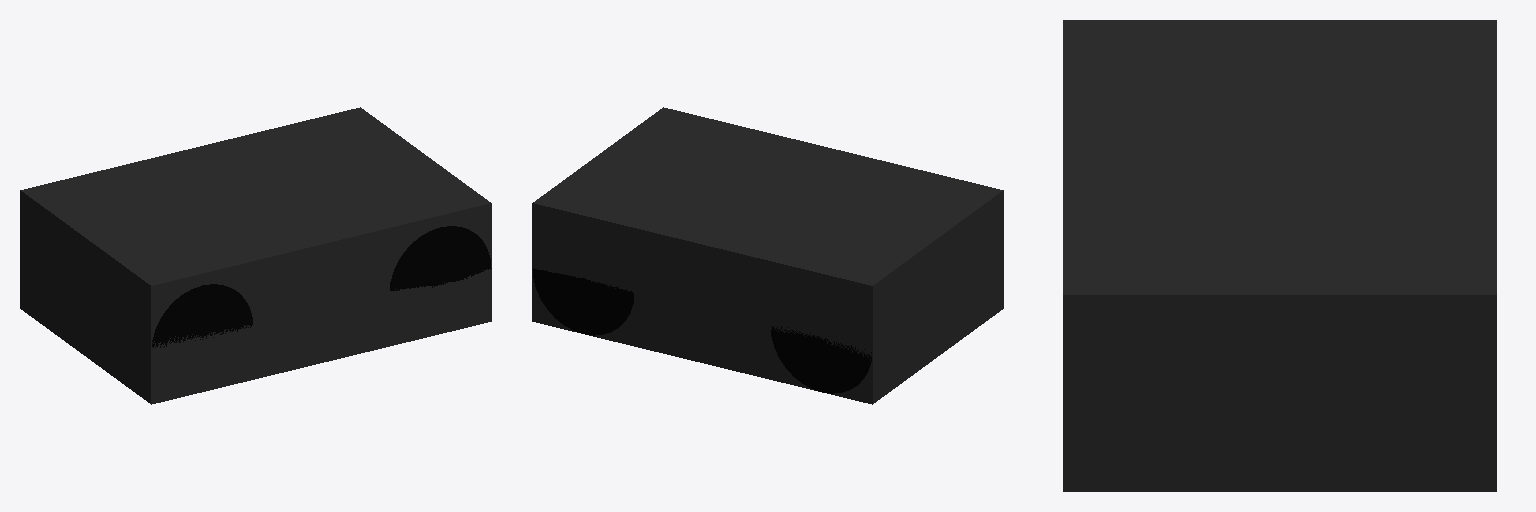
URDF robot description (rover):
<?xml version="1.0" ?>
<!-- =================================================================================== -->
<!-- |    This document was autogenerated by xacro from urdf/xacro/rover.urdf.xacro    | -->
<!-- |    EDITING THIS FILE BY HAND IS NOT RECOMMENDED                                 | -->
<!-- =================================================================================== -->
<robot name="rover">
  <!-- épaisseur roue -->
  <!-- châssis -->
  <link name="base_link">
    <visual>
      <origin xyz="0 0 0.1"/>
      <geometry>
        <box size="0.6 0.4 0.2"/>
      </geometry>
      <material name="gray">
        <color rgba="0.2 0.2 0.2 1"/>
      </material>
    </visual>
    <collision>
      <origin xyz="0 0 0.1"/>
      <geometry>
        <box size="0.6 0.4 0.2"/>
      </geometry>
    </collision>
    <inertial>
      <mass value="8.0"/>
      <origin xyz="0 0 0.1"/>
      <inertia ixx="0.2" ixy="0" ixz="0" iyy="0.2" iyz="0" izz="0.2"/>
    </inertial>
  </link>
  <link name="wheel_fl">
    <visual>
      <origin rpy="1.5708 0 0" xyz="0 0 0"/>
      <geometry>
        <cylinder length="0.05" radius="0.09"/>
      </geometry>
      <material name="black">
        <color rgba="0.05 0.05 0.05 1"/>
      </material>
    </visual>
    <collision>
      <origin rpy="1.5708 0 0" xyz="0 0 0"/>
      <geometry>
        <cylinder length="0.05" radius="0.09"/>
      </geometry>
    </collision>
    <inertial>
      <mass value="0.3"/>
      <inertia ixx="0.001" ixy="0" ixz="0" iyy="0.001" iyz="0" izz="0.001"/>
    </inertial>
  </link>
  <joint name="wheel_fl_joint" type="revolute">
    <parent link="base_link"/>
    <child link="wheel_fl"/>
    <origin xyz="0.21 0.17500000000000002 0.09"/>
    <axis xyz="0 1 0"/>
    <limit effort="10" lower="-3.14" upper="3.14" velocity="20"/>
  </joint>
  <link name="wheel_fr">
    <visual>
      <origin rpy="1.5708 0 0" xyz="0 0 0"/>
      <geometry>
        <cylinder length="0.05" radius="0.09"/>
      </geometry>
      <material name="black">
        <color rgba="0.05 0.05 0.05 1"/>
      </material>
    </visual>
    <collision>
      <origin rpy="1.5708 0 0" xyz="0 0 0"/>
      <geometry>
        <cylinder length="0.05" radius="0.09"/>
      </geometry>
    </collision>
    <inertial>
      <mass value="0.3"/>
      <inertia ixx="0.001" ixy="0" ixz="0" iyy="0.001" iyz="0" izz="0.001"/>
    </inertial>
  </link>
  <joint name="wheel_fr_joint" type="revolute">
    <parent link="base_link"/>
    <child link="wheel_fr"/>
    <origin xyz="0.21 -0.17500000000000002 0.09"/>
    <axis xyz="0 1 0"/>
    <limit effort="10" lower="-3.14" upper="3.14" velocity="20"/>
  </joint>
  <link name="wheel_rl">
    <visual>
      <origin rpy="1.5708 0 0" xyz="0 0 0"/>
      <geometry>
        <cylinder length="0.05" radius="0.09"/>
      </geometry>
      <material name="black">
        <color rgba="0.05 0.05 0.05 1"/>
      </material>
    </visual>
    <collision>
      <origin rpy="1.5708 0 0" xyz="0 0 0"/>
      <geometry>
        <cylinder length="0.05" radius="0.09"/>
      </geometry>
    </collision>
    <inertial>
      <mass value="0.3"/>
      <inertia ixx="0.001" ixy="0" ixz="0" iyy="0.001" iyz="0" izz="0.001"/>
    </inertial>
  </link>
  <joint name="wheel_rl_joint" type="revolute">
    <parent link="base_link"/>
    <child link="wheel_rl"/>
    <origin xyz="-0.21 0.17500000000000002 0.09"/>
    <axis xyz="0 1 0"/>
    <limit effort="10" lower="-3.14" upper="3.14" velocity="20"/>
  </joint>
  <link name="wheel_rr">
    <visual>
      <origin rpy="1.5708 0 0" xyz="0 0 0"/>
      <geometry>
        <cylinder length="0.05" radius="0.09"/>
      </geometry>
      <material name="black">
        <color rgba="0.05 0.05 0.05 1"/>
      </material>
    </visual>
    <collision>
      <origin rpy="1.5708 0 0" xyz="0 0 0"/>
      <geometry>
        <cylinder length="0.05" radius="0.09"/>
      </geometry>
    </collision>
    <inertial>
      <mass value="0.3"/>
      <inertia ixx="0.001" ixy="0" ixz="0" iyy="0.001" iyz="0" izz="0.001"/>
    </inertial>
  </link>
  <joint name="wheel_rr_joint" type="revolute">
    <parent link="base_link"/>
    <child link="wheel_rr"/>
    <origin xyz="-0.21 -0.17500000000000002 0.09"/>
    <axis xyz="0 1 0"/>
    <limit effort="10" lower="-3.14" upper="3.14" velocity="20"/>
  </joint>
</robot>

--- What the picture shows (computed from the rendered views, not written in the file) ---
The picture shows the robot from 3 angles, left to right: view 1: azimuth 30°, elevation 25°; view 2: azimuth 150°, elevation 25°; view 3: azimuth 270°, elevation 25°; orthographic projection.
Robot: rover — 5 links, 4 joints (4 revolute); root link base_link; default pose: every joint at zero.
Links seen in each view (by area): view 1: base_link, wheel_fr, wheel_rr; view 2: base_link, wheel_fl, wheel_rl; view 3: base_link.
Link boxes in pixels (x1,y1,x2,y2): base_link: [20, 107, 491, 404]; wheel_fr: [390, 226, 491, 290]; wheel_rr: [152, 284, 252, 347]; base_link: [532, 107, 1003, 404]; wheel_fl: [532, 268, 633, 335]; wheel_rl: [771, 326, 871, 393]; base_link: [1063, 20, 1496, 491].
Size in the robot's own frame: 0.6 by 0.4 by 0.2 metres.
Geometry: primitives only (box / cylinder / sphere), no mesh files.